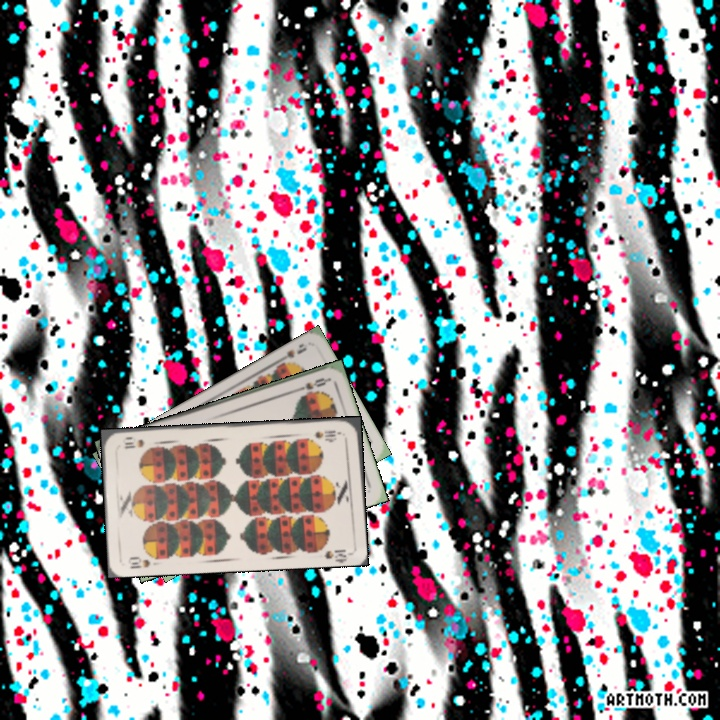S10: (126, 552, 153, 571), (310, 426, 344, 441)
S9: (273, 339, 309, 369)
SO: (291, 374, 331, 394)
